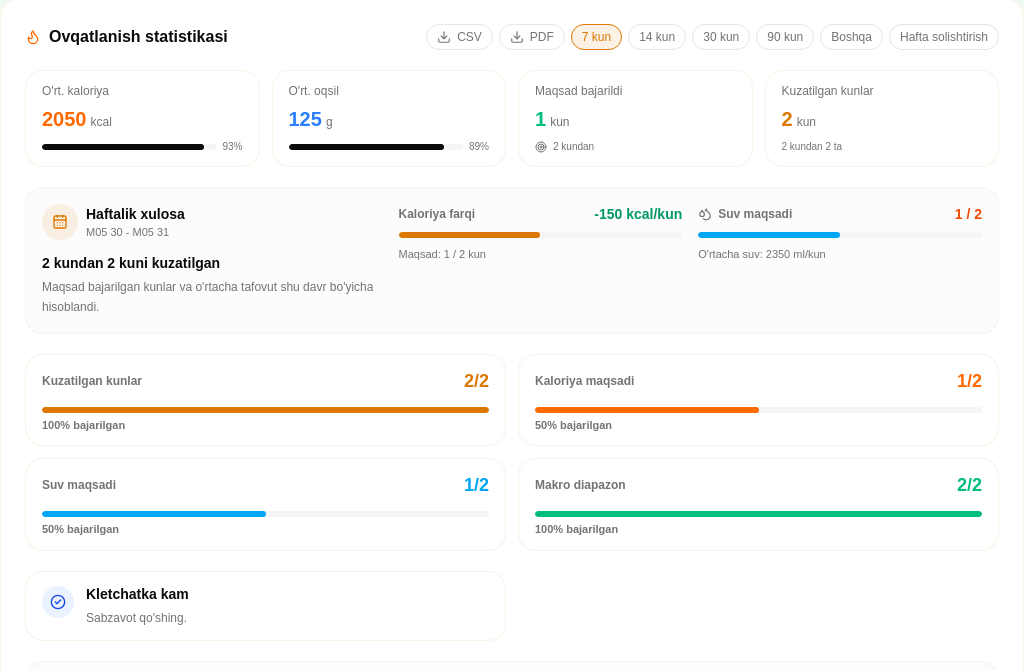
Test: NutritionAnalyticsSection › shows extended trend, adherence, insights, and selected-period comparison
This screenshot has width=1024, height=671.
Expected: the text "Makro diapazon" is shown, [535,477,626,493]
Expected: the element named "Maqsadga amal qilish" shows "2/2", [25,354,999,550]
What coordinates should you click on to do the following:
click the button "Hafta solishtirish"
I would click on:
 (944, 37)
Its box is [889,24,999,50].
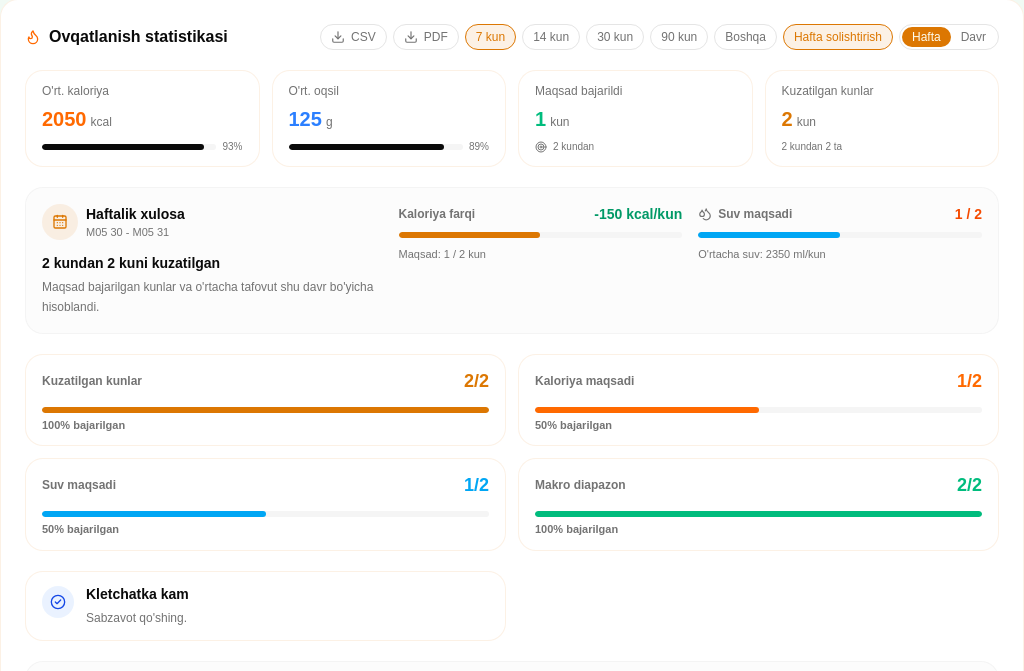
What coordinates should you click on to do the following:
click the button "Davr"
I would click on:
 (973, 37)
Its box is [951,27,996,47].
(page scrolled)
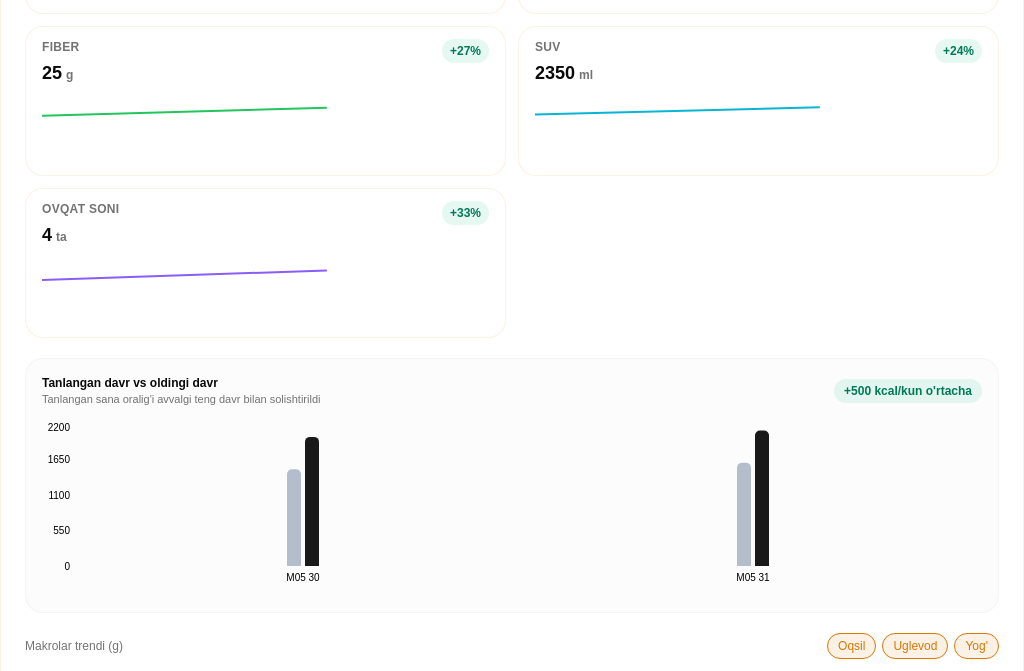
Now the text "Tanlangan davr vs oldingi davr" is shown, box [42,376,218,390]
